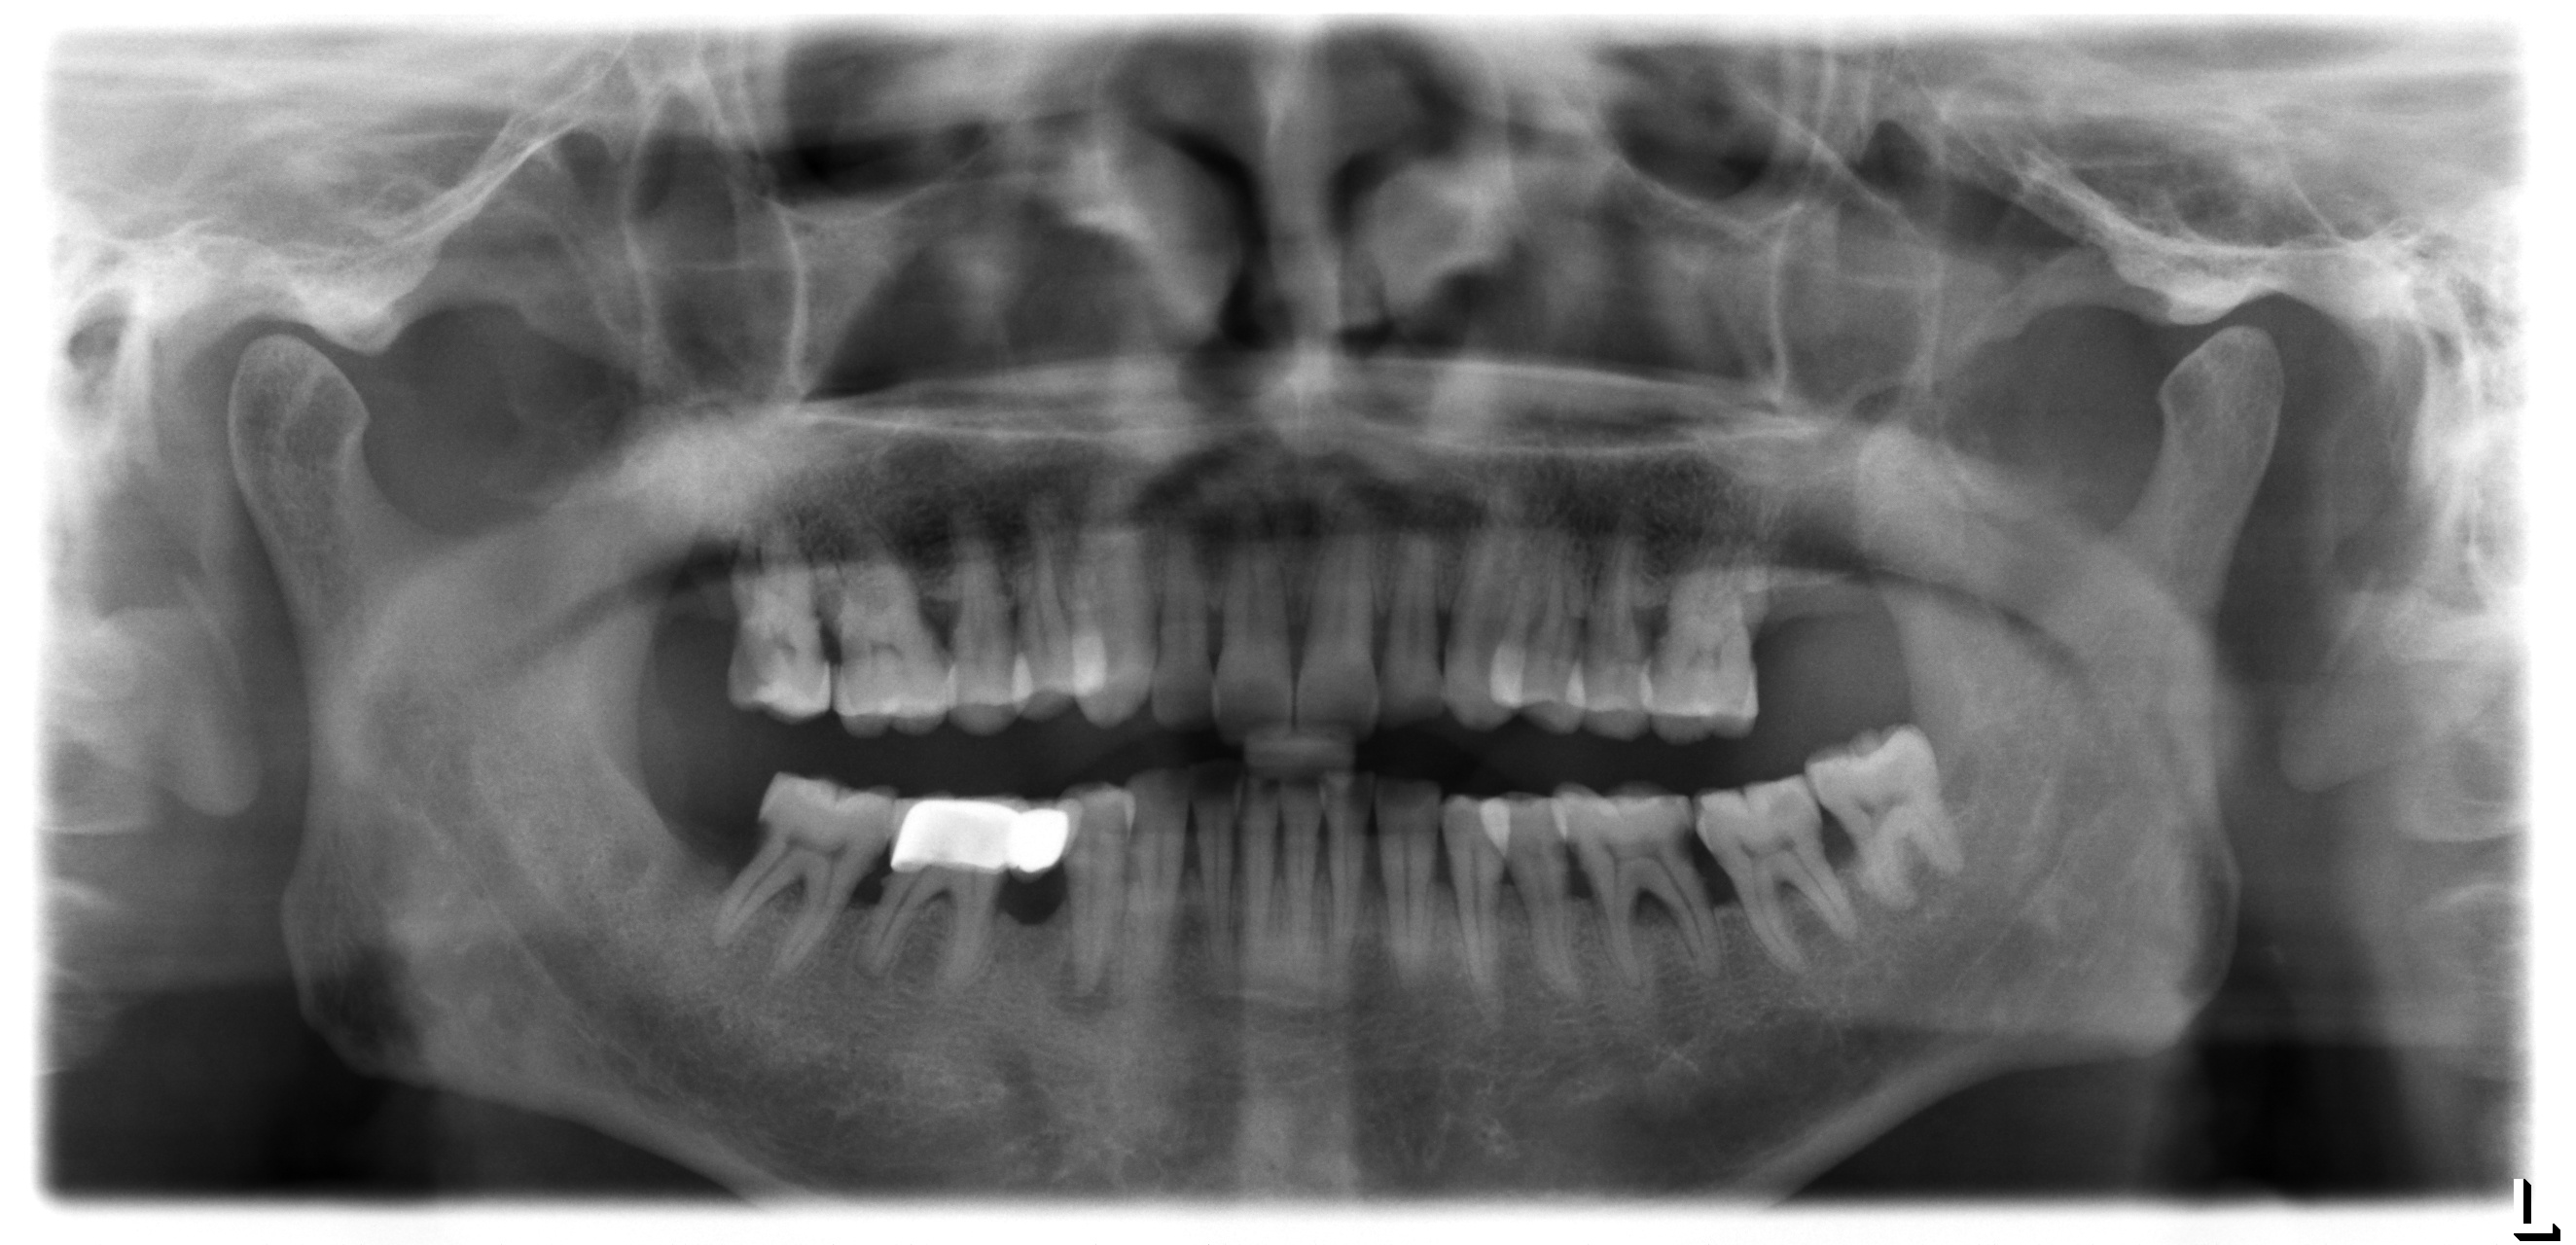Decay: (716, 613, 780, 708), (1656, 810, 1704, 874), (738, 800, 782, 864)
